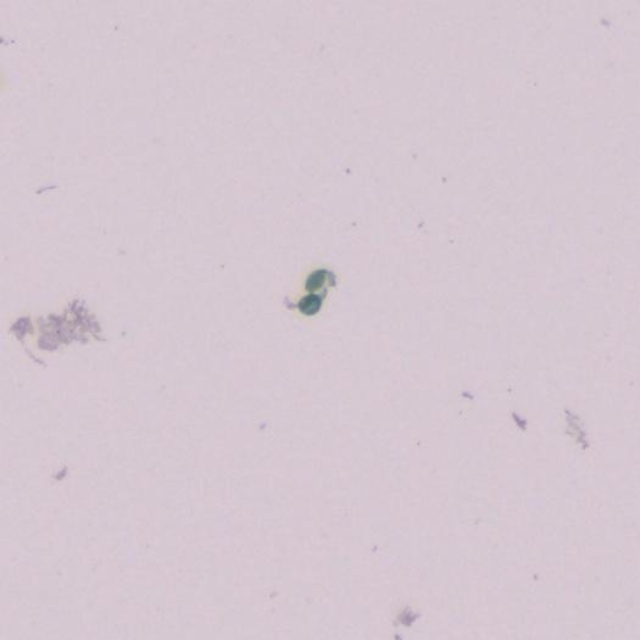non_viable: (296, 293, 322, 315)
